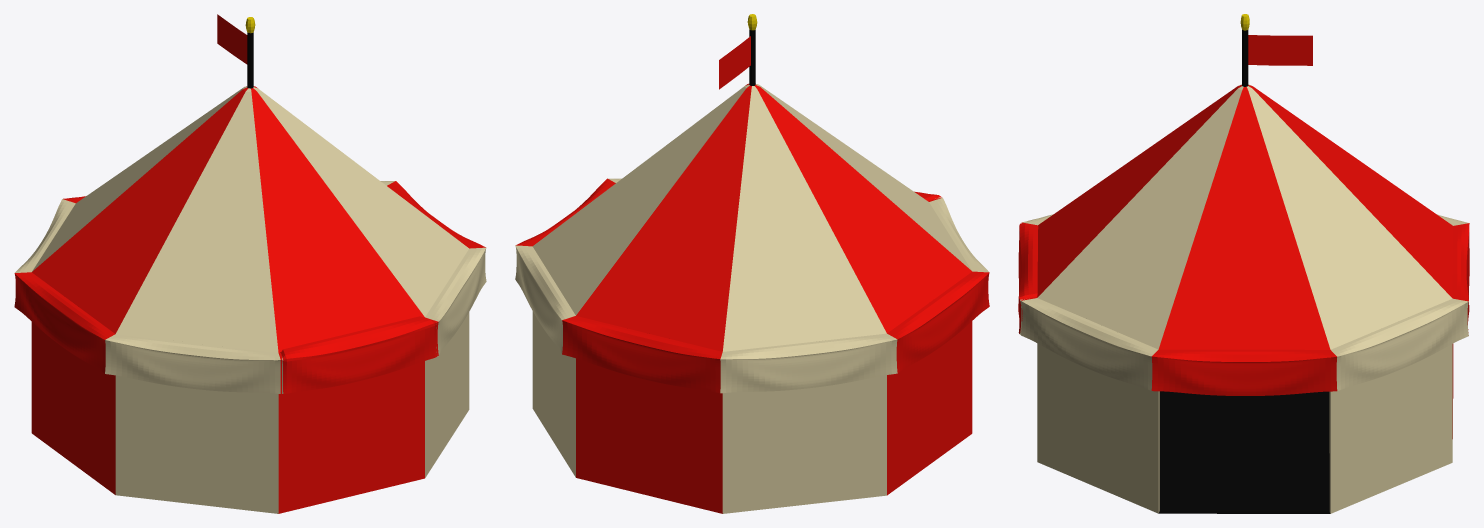
The model's file is carnival tent.fbx.
The picture shows the model from 3 angles, left to right: view 1: azimuth 30°, elevation 25°; view 2: azimuth 150°, elevation 25°; view 3: azimuth 270°, elevation 25°; orthographic projection.
Parts seen in each view (by area): view 1: Circle, Plane; view 2: Circle, Plane; view 3: Circle, Plane.
Boxes of the visible parts, <box> form: Circle: <box>14,17,486,513</box>; Plane: <box>217,14,247,64</box>; Circle: <box>515,14,989,513</box>; Plane: <box>719,36,750,89</box>; Circle: <box>1018,14,1469,513</box>; Plane: <box>1248,35,1312,65</box>.
Bounding box in the file's own units: 15094 × 15236 × 15179.
